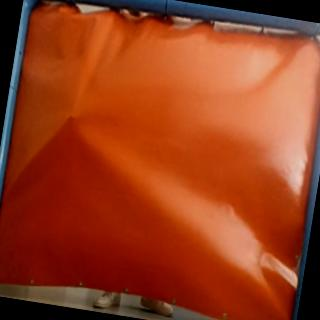Hit-hRxx: (62, 107, 80, 126)
